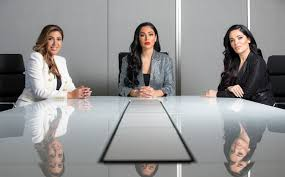middle_eastern_Female: (228, 28, 253, 57), (43, 28, 66, 57), (138, 24, 159, 51)
